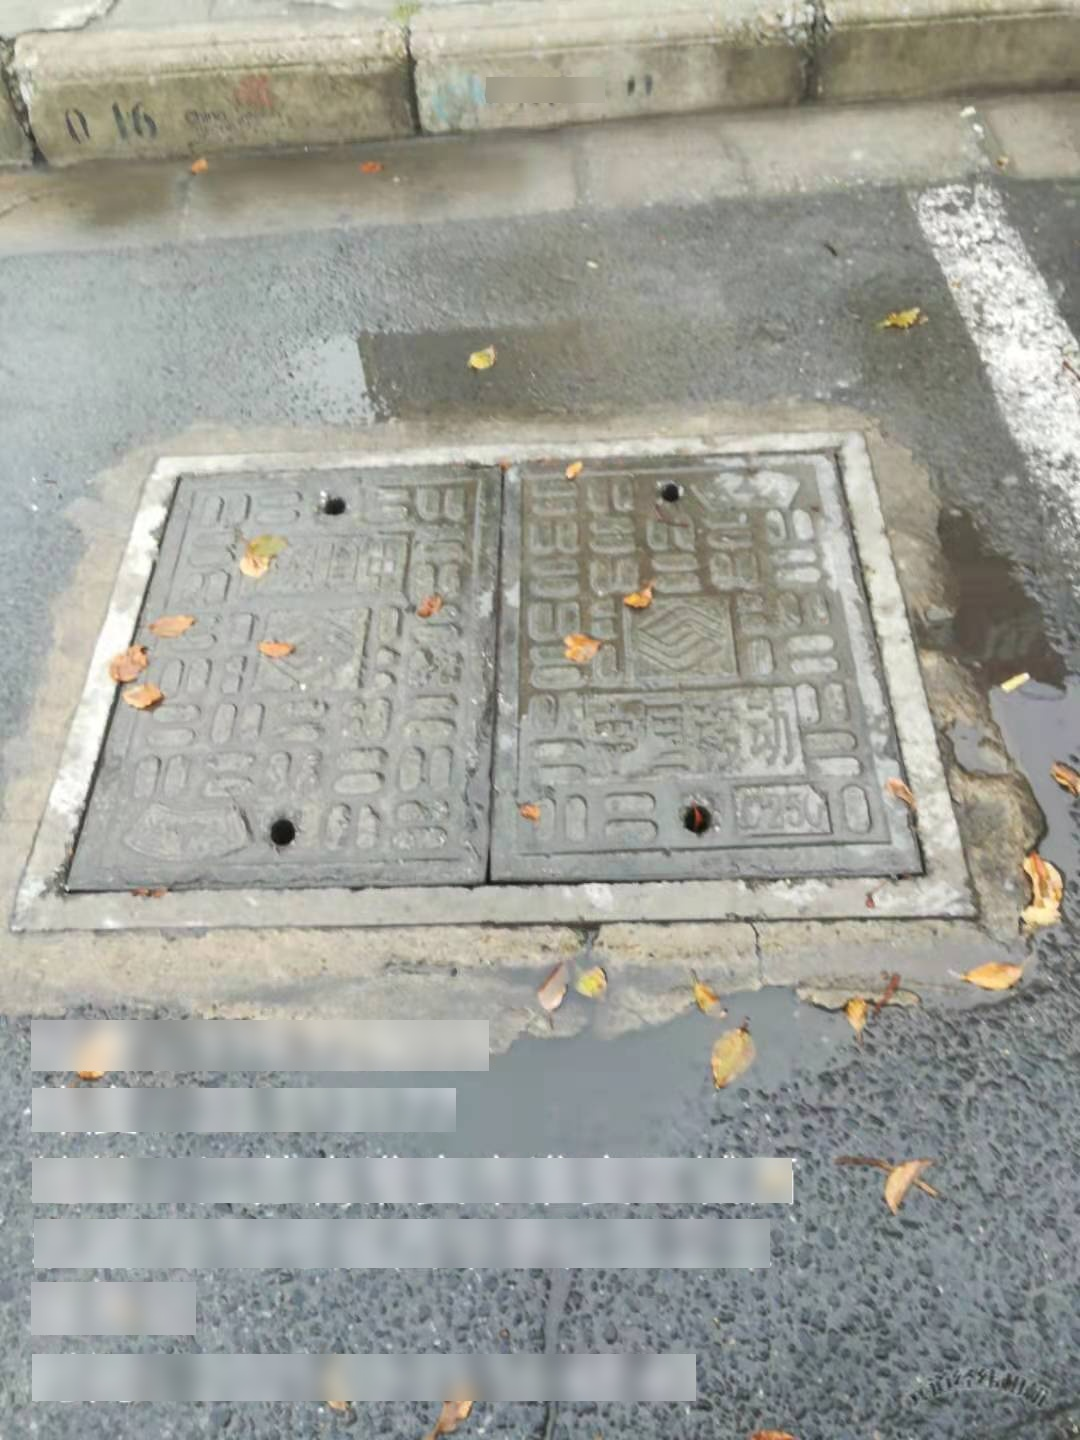good: (9, 427, 980, 927)
